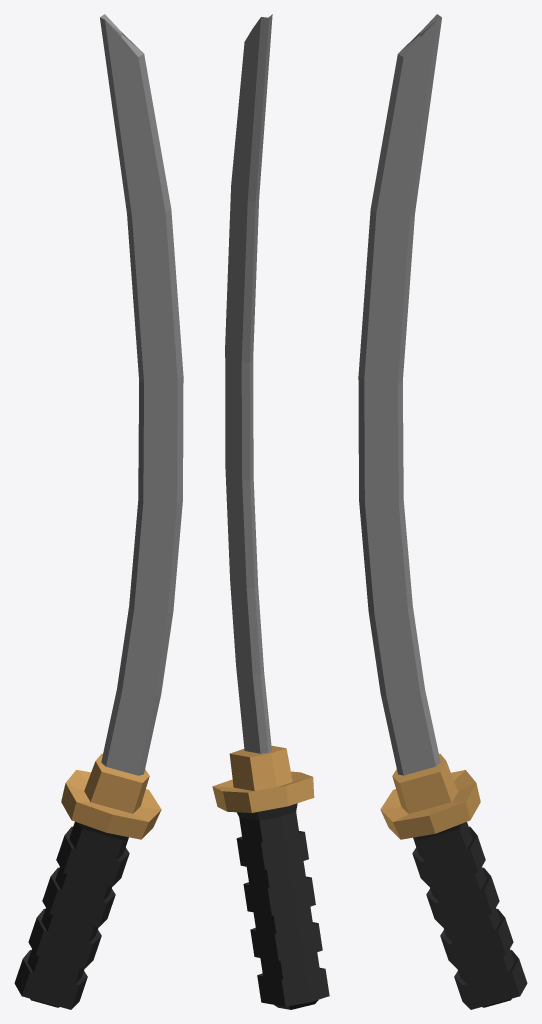
Rendered from Katana.glb.
3 views of the same model, side by side, from view 1: azimuth 90°, elevation 25°; view 2: azimuth 210°, elevation 25°; view 3: azimuth 270°, elevation 25° (orthographic).
Visible parts, largest first — view 1: Katana; view 2: Katana; view 3: Katana.
Part boxes in pixels (left/top/right/bottom): Katana: left=14, top=14, right=183, bottom=1009; Katana: left=212, top=14, right=329, bottom=1009; Katana: left=358, top=14, right=527, bottom=1009.
Bounding box in the file's own units: 0.3165 × 3.77 × 0.5866.
